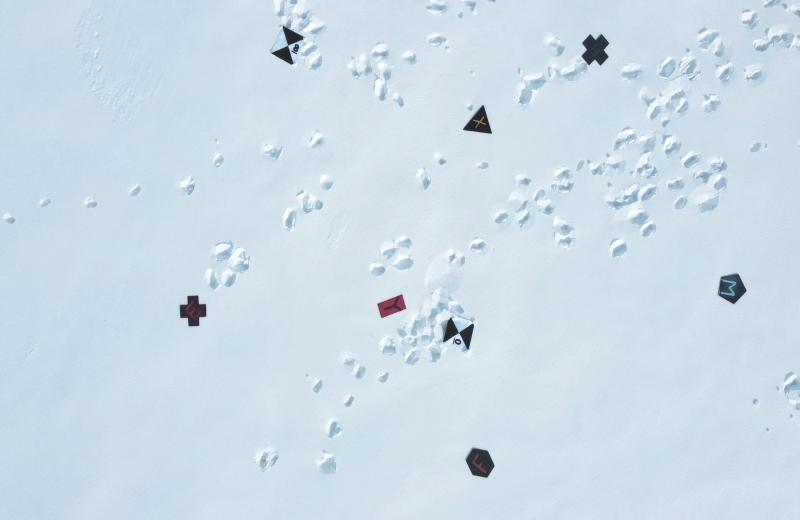Cross: (578, 31, 614, 72), (179, 289, 211, 331)
Hexagon: (463, 441, 495, 486)
Pentagon: (714, 267, 748, 308)
Rectangle: (374, 294, 409, 321)
Triangle: (461, 100, 493, 138)
